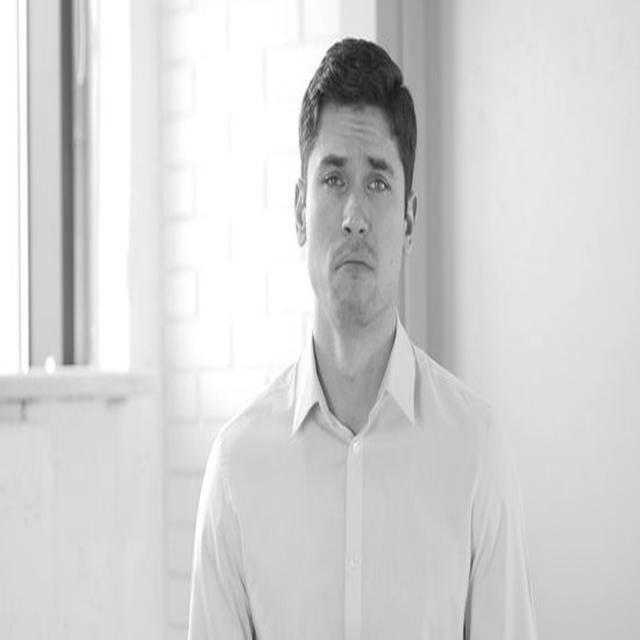Sadness: (312, 100, 402, 324)
